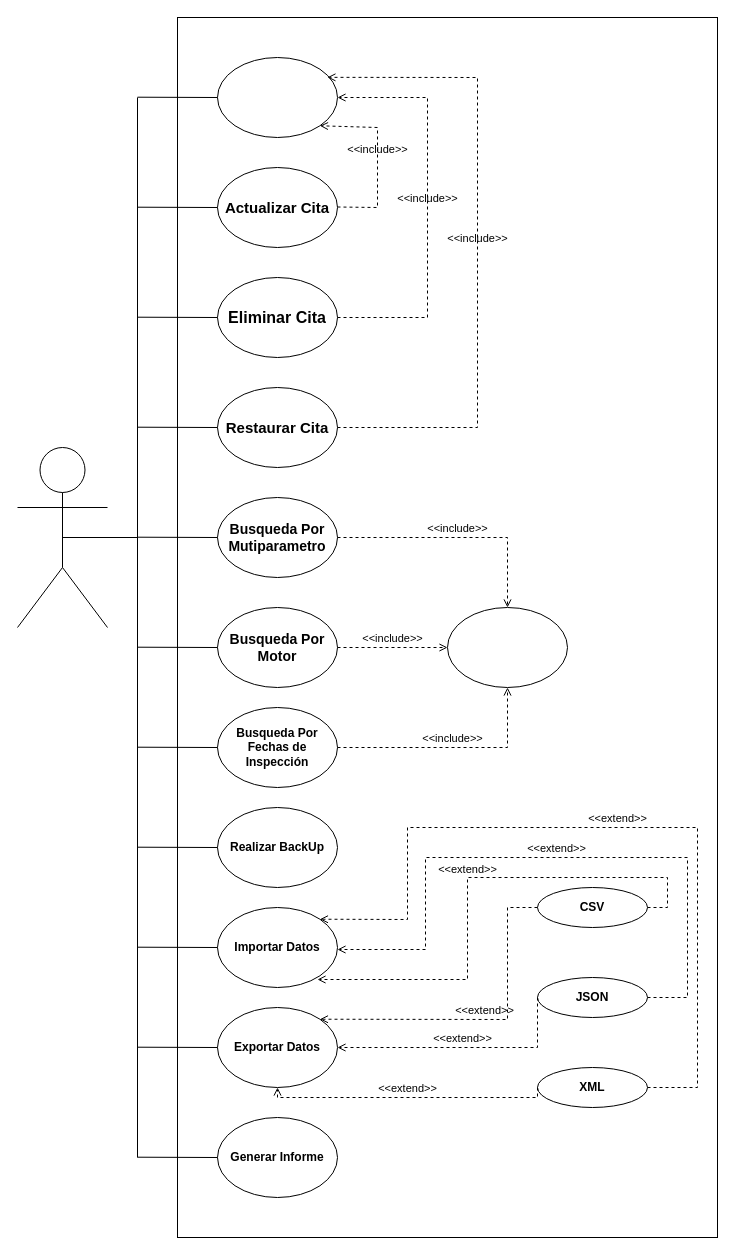
Image size: 735x1255. Some labels were removed from this diagram. Each missing label, with the centre of its shape:
"<<User>>" goes at point (62, 537).
"Buscar Por ID" goes at point (277, 97).
"Obtener Co n Filtros" goes at point (507, 647).
